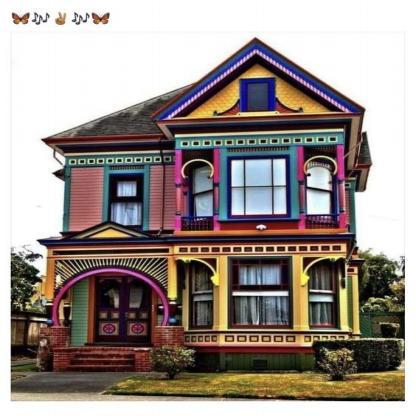Building Outline: (35, 37, 372, 372)
Dont: (311, 338, 364, 380), (149, 344, 196, 379)
Door Hole: (56, 271, 164, 348)
Facade: (61, 126, 348, 371)
Floor: (62, 132, 347, 235)
Floor Slab: (62, 229, 346, 243), (176, 126, 347, 138)
Ground Floor: (46, 237, 348, 348)
Molding: (156, 46, 359, 119), (38, 234, 354, 259), (176, 132, 344, 149), (65, 153, 175, 167)
Pillar: (336, 145, 344, 229), (298, 145, 304, 229), (214, 148, 220, 231), (176, 150, 182, 232)
Roof: (41, 37, 373, 166), (35, 220, 173, 241)
Top Floor: (172, 53, 347, 131)
Window: (227, 255, 294, 330), (226, 154, 291, 219), (93, 275, 152, 343), (308, 257, 342, 330), (108, 173, 145, 231), (189, 258, 215, 331), (306, 157, 335, 222), (190, 159, 214, 223), (239, 77, 276, 112)
